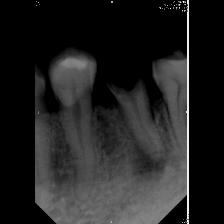apical_lesion: (107, 79, 185, 195)
